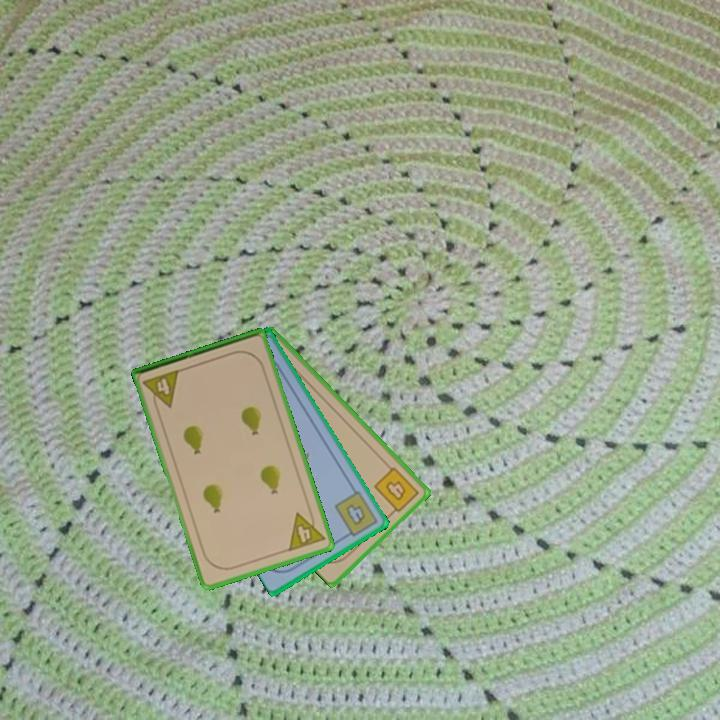4b: (370, 463, 422, 518), (331, 487, 381, 541)
4p: (139, 366, 183, 414), (285, 505, 328, 554)
